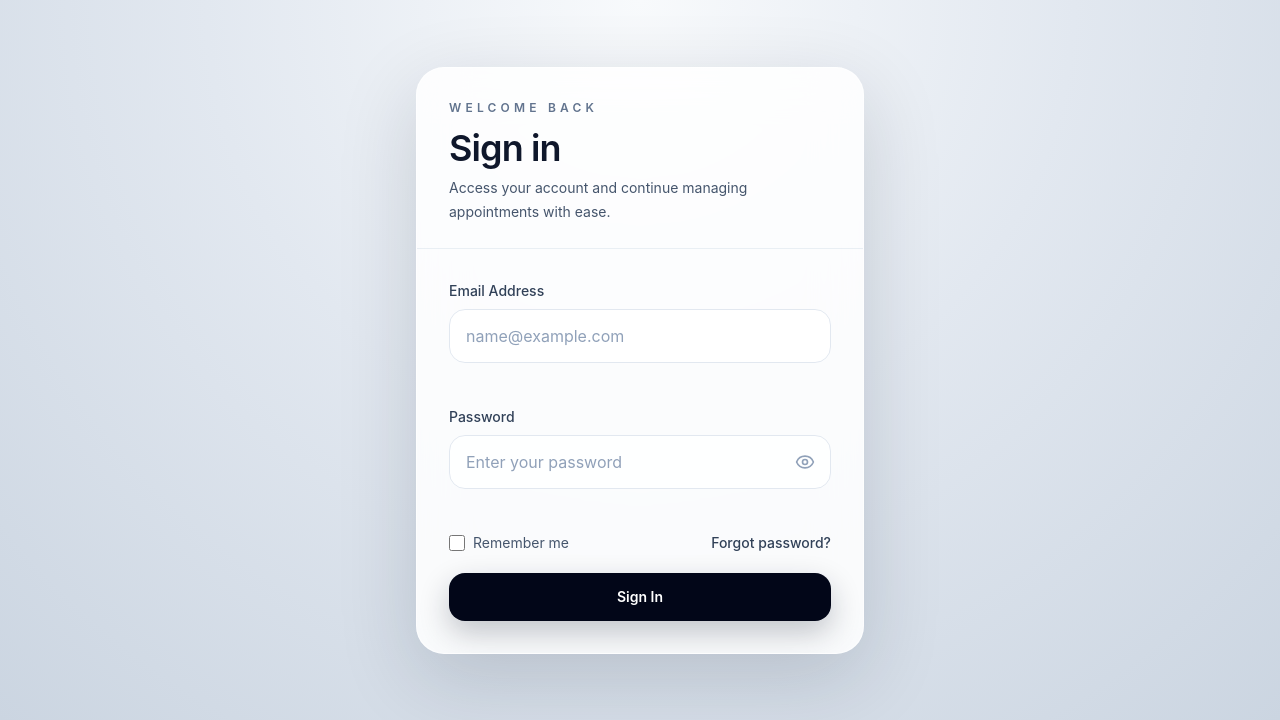
Test case: Login Flow › should show verification message when email is not verified
This screenshot has width=1280, height=720.
Step 1. Type "unverified@example.com" into the field with placeholder "name@example.com" → (640, 336), box [449,308,831,362]
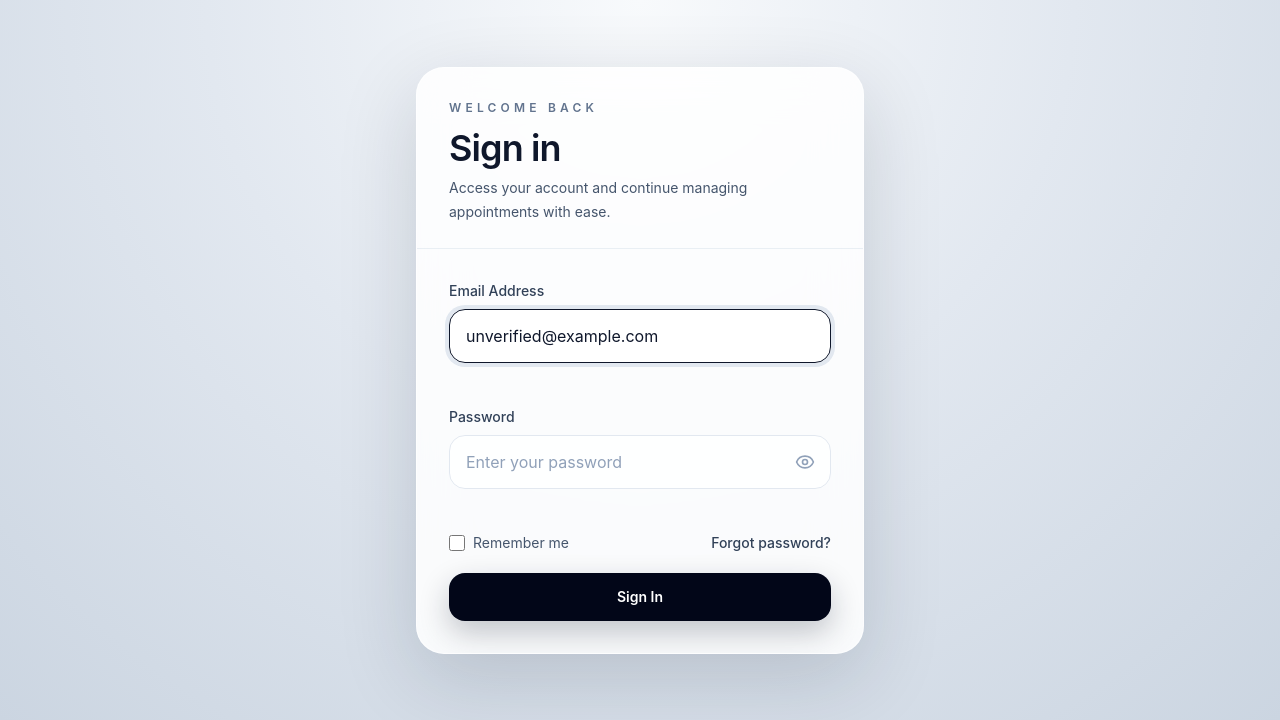
Step 2. Type "Test@123456" into the password field with placeholder "Enter your password" → (640, 462), box [449,434,831,488]
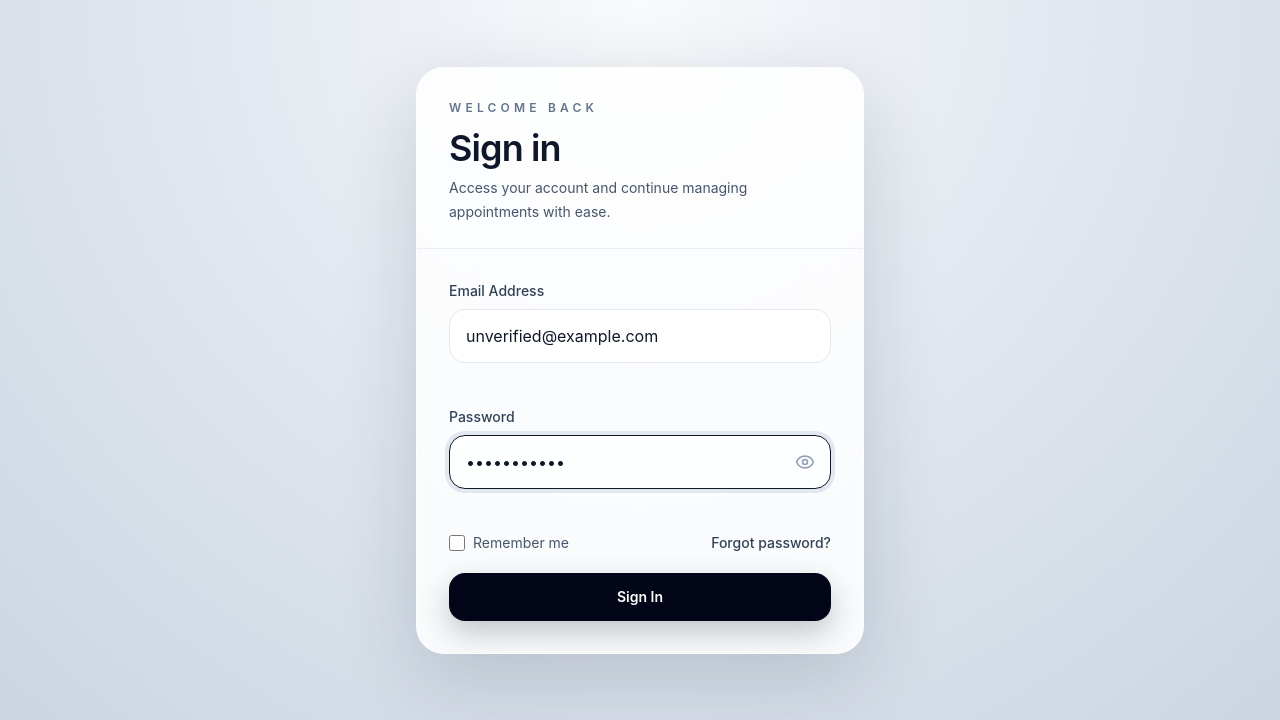
Step 3. Click the button "Sign In" → (640, 596), box [449,572,831,620]
(page scrolled)
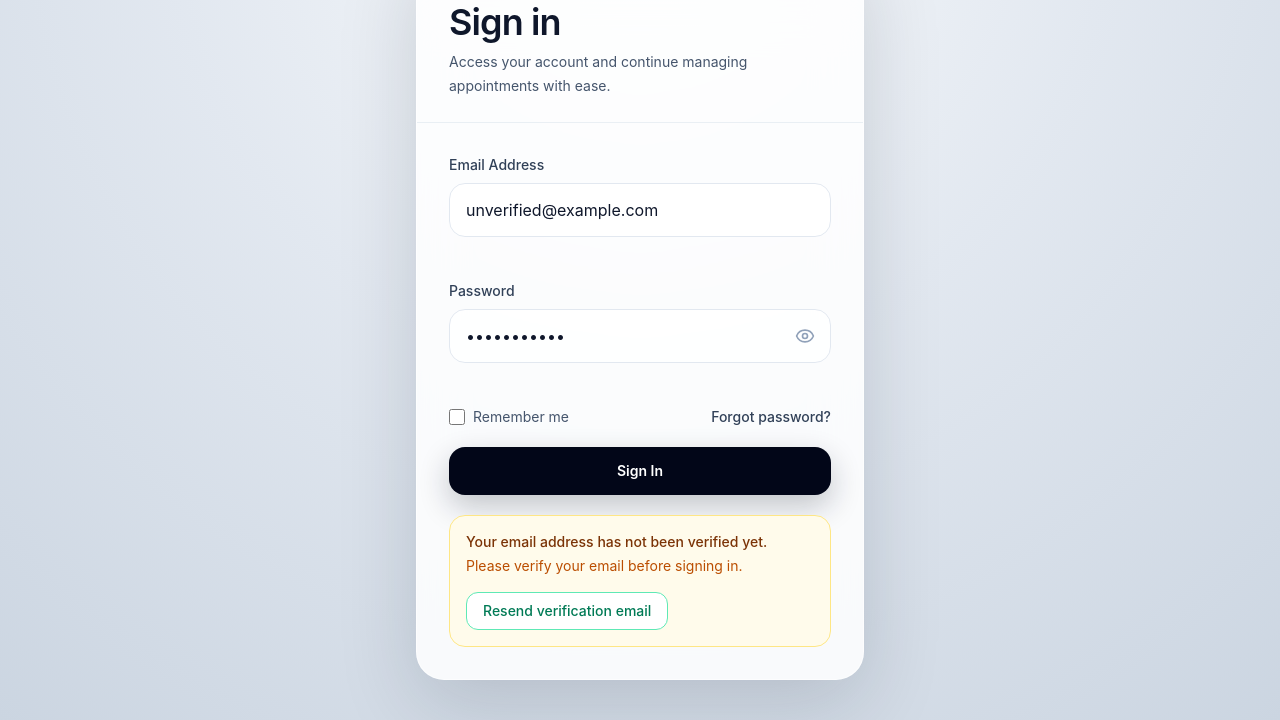
Now the text "Your email address has not been verified yet." is shown, box [466,532,814,552]
Now the button "Resend verification email" is shown, box [466,592,668,630]
